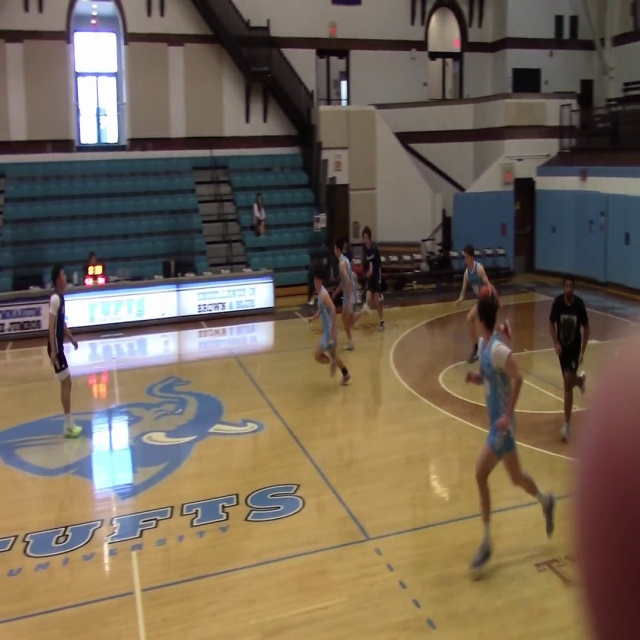Basketball: (491, 342, 511, 372), (478, 285, 499, 310), (560, 316, 576, 345), (313, 346, 332, 365), (478, 285, 492, 300)
